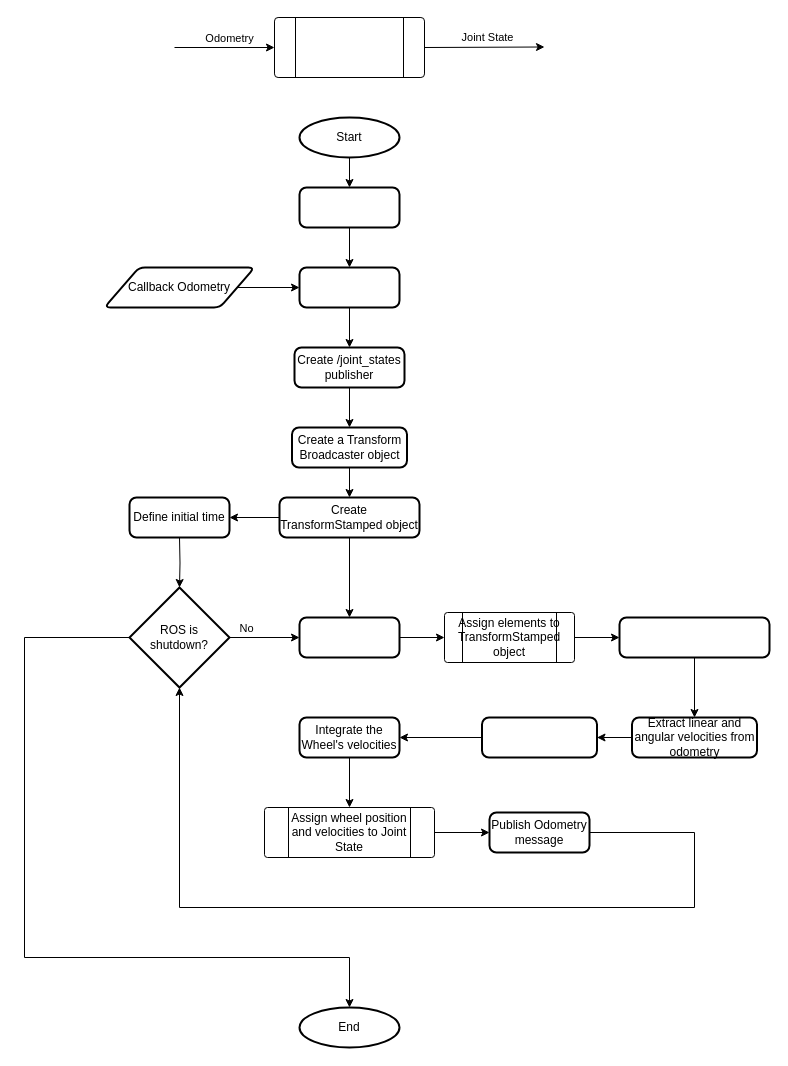
Some shapes in this 788 by 1066 pixel diagram are drawn without their labels. The centre of each missing label's shape, as x and y in pixels:
"Calculate Right and Left Wheel's velocities" belongs at (x=539, y=737).
"Initialize Node" belongs at (x=349, y=207).
"Joint_state_publisher" belongs at (x=349, y=47).
"Obtain Time diferential" belongs at (x=349, y=637).
"Send Odometry transform to tf boradcaster" belongs at (x=694, y=637).
"Subscribe to /odom" belongs at (x=349, y=287).
